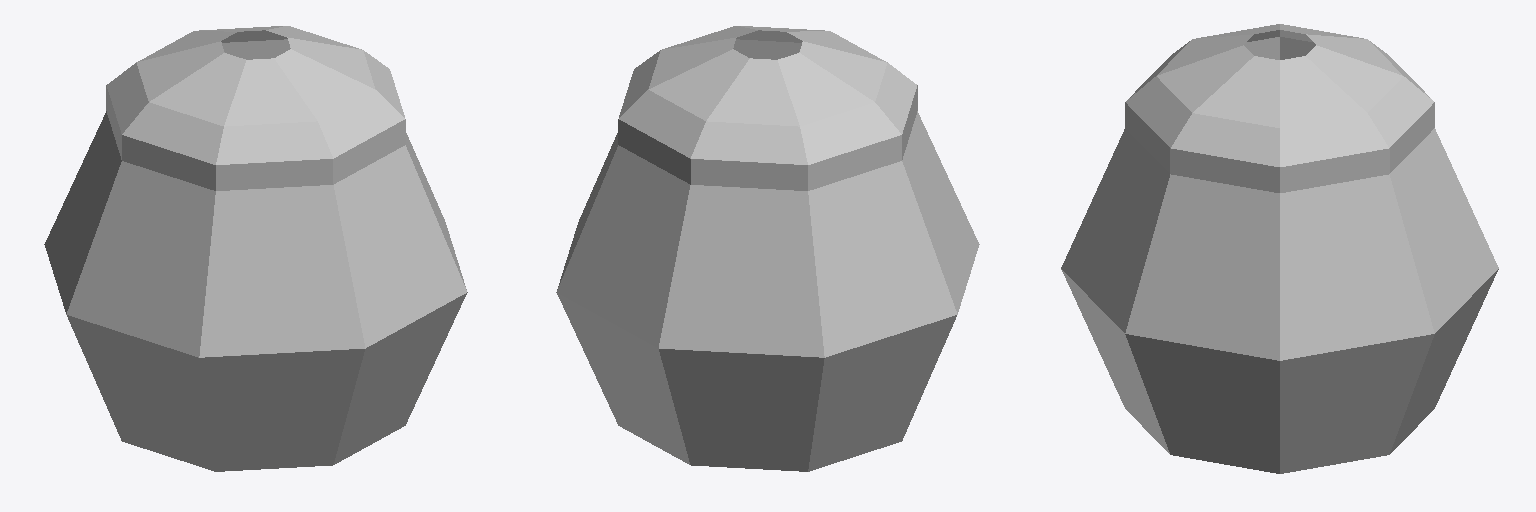
The model's file is lampiontengah.obj.
3 views of the same model, side by side, from view 1: azimuth 30°, elevation 25°; view 2: azimuth 150°, elevation 25°; view 3: azimuth 270°, elevation 25° (orthographic).
Parts seen in each view (by area): view 1: StallMesh; view 2: StallMesh; view 3: StallMesh.
Part boxes in pixels (x1,y1,x2,y2): StallMesh: (44,26,467,471); StallMesh: (556,26,979,471); StallMesh: (1061,24,1498,473).
Size of the model in its own units: 0.02 by 0.0213 by 0.02.